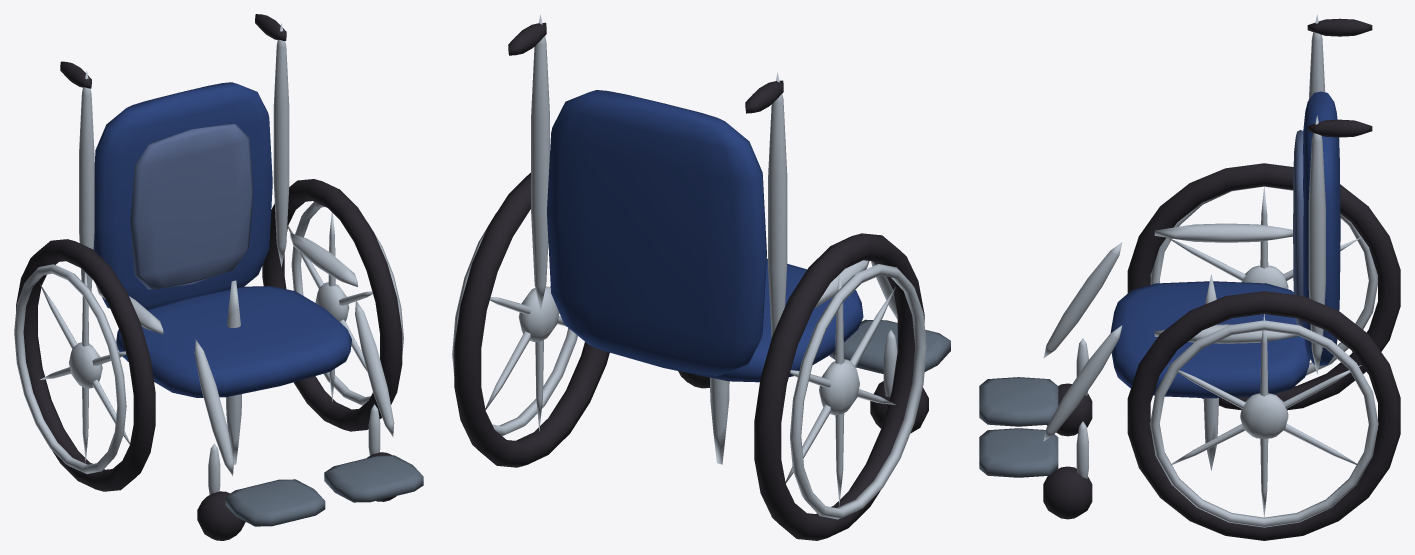
Rendered from wheelchair.glb.
3 renders of one model, left to right at view 1: azimuth 30°, elevation 25°; view 2: azimuth 150°, elevation 25°; view 3: azimuth 270°, elevation 25°, orthographic. The views are drawn at different scales.
Visible parts, largest first — view 1: cushion, chair, wheel_r, wheel_l; view 2: cushion, wheel_r, wheel_l, chair; view 3: wheel_l, chair, cushion, wheel_r.
Part boxes in pixels (box(x1,y1,x2,y2)): cushion: box(93, 82, 351, 397); chair: box(60, 14, 423, 540); wheel_r: box(14, 239, 155, 491); wheel_l: box(262, 179, 403, 431); cushion: box(547, 90, 863, 382); wheel_r: box(754, 233, 926, 540); wheel_l: box(452, 172, 609, 467); chair: box(508, 14, 950, 464); wheel_l: box(1127, 291, 1400, 540); chair: box(979, 14, 1372, 519); cushion: box(1110, 91, 1340, 398); wheel_r: box(1127, 163, 1400, 410).
Size of the model in its own units: 0.4633 by 0.6025 by 0.558.
Materials: 1 (1 with a texture image).
